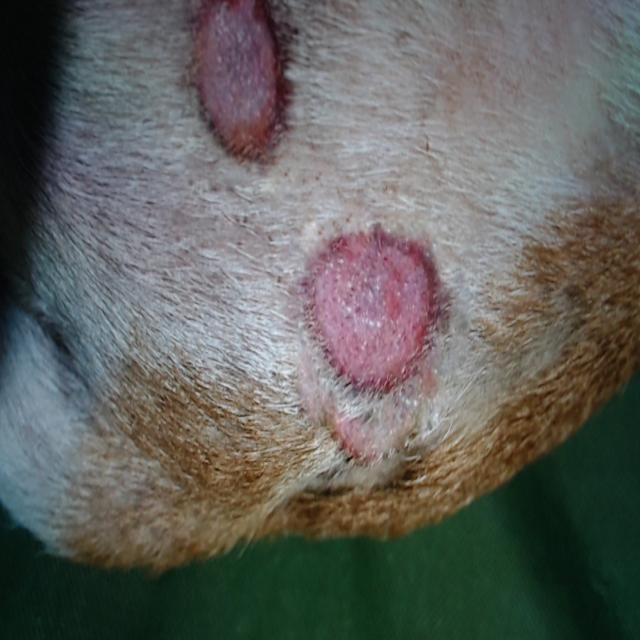ringworm: (289, 198, 451, 414), (166, 0, 322, 163)
